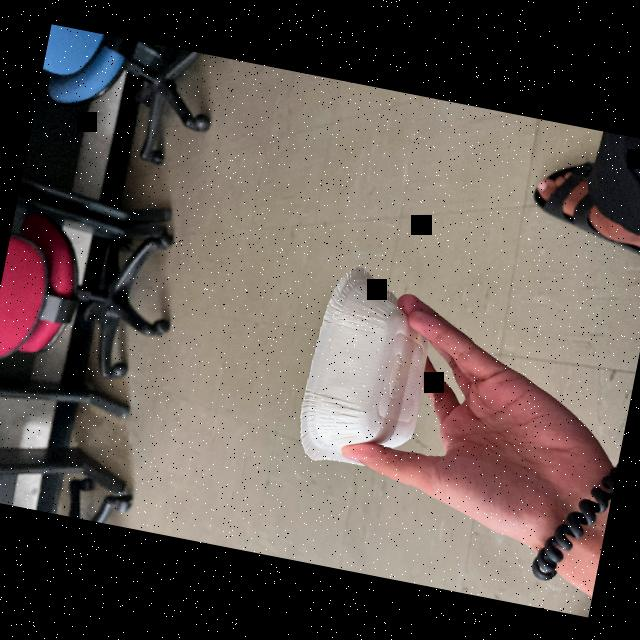cardboard_bowl: (286, 246, 462, 496)
